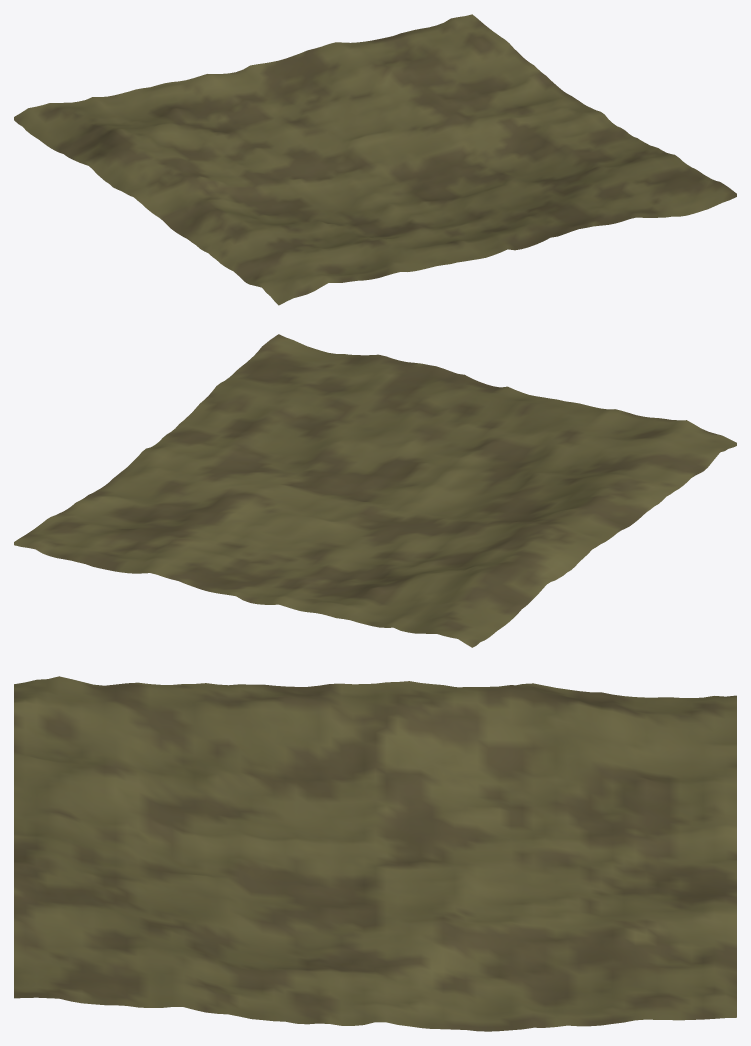
The model's file is land_f_01_08.glb.
3 views of the same model, one above another, from view 1: azimuth 30°, elevation 25°; view 2: azimuth 150°, elevation 25°; view 3: azimuth 270°, elevation 25° (orthographic). The views are drawn at different scales.
Parts seen in each view (by area): view 1: land_f_01_08; view 2: land_f_01_08; view 3: land_f_01_08.
Part boxes in pixels (left/top/right/bottom): land_f_01_08: left=14, top=14, right=736, bottom=305; land_f_01_08: left=14, top=334, right=736, bottom=647; land_f_01_08: left=14, top=676, right=736, bottom=1031.
Size of the model in its own units: 3840 by 332 by 3840.
